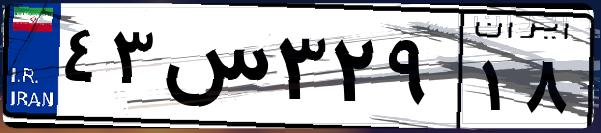1: (475, 38, 525, 113)
2: (330, 28, 385, 110)
3: (270, 28, 330, 110), (110, 28, 158, 98)
4: (57, 26, 110, 100)
8: (525, 38, 570, 115)
9: (385, 28, 445, 110)
س: (158, 20, 270, 120)
